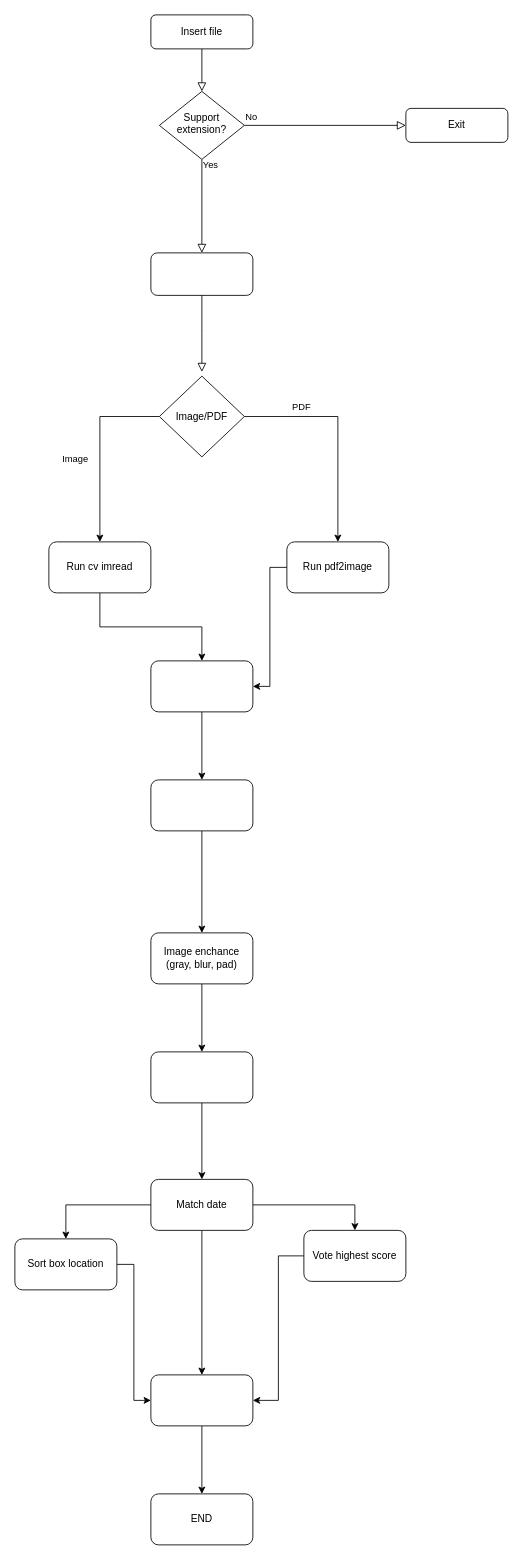
Image size: 523x1560. Some labels were removed from this diagram. The centre of each missing label's shape, as x and y in pixels:
Box coordinate: point (201, 686)
Generate crop image: point (201, 805)
Json output: point (201, 1400)
OCR: point (201, 1077)
Preprocess: point (201, 273)
